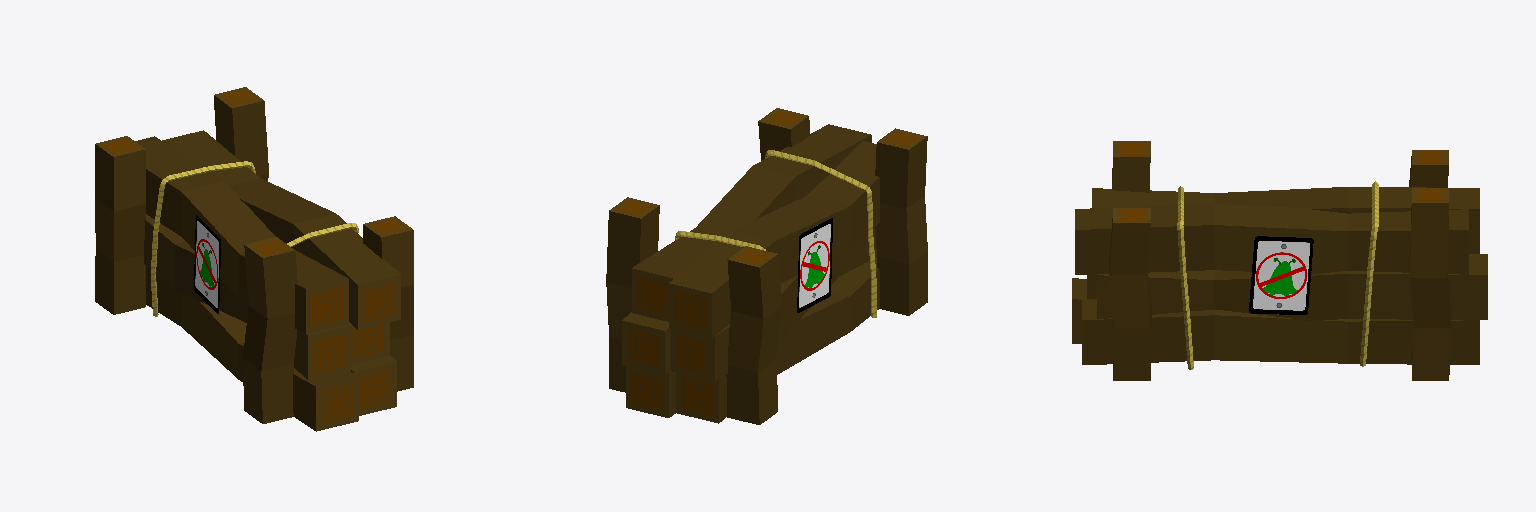
3 renders of one model, left to right at view 1: azimuth 30°, elevation 25°; view 2: azimuth 150°, elevation 25°; view 3: azimuth 270°, elevation 25°, orthographic.
Parts seen in each view (by area): view 1: Cube.001; view 2: Cube.001; view 3: Cube.001.
Boxes of the visible parts, x1=… form: Cube.001: x1=95, y1=87, x2=413, y2=431; Cube.001: x1=606, y1=108, x2=927, y2=424; Cube.001: x1=1072, y1=141, x2=1487, y2=380.
Size of the model in its own units: 4.11 by 4.47 by 9.48.
1 materials, 1 textured.